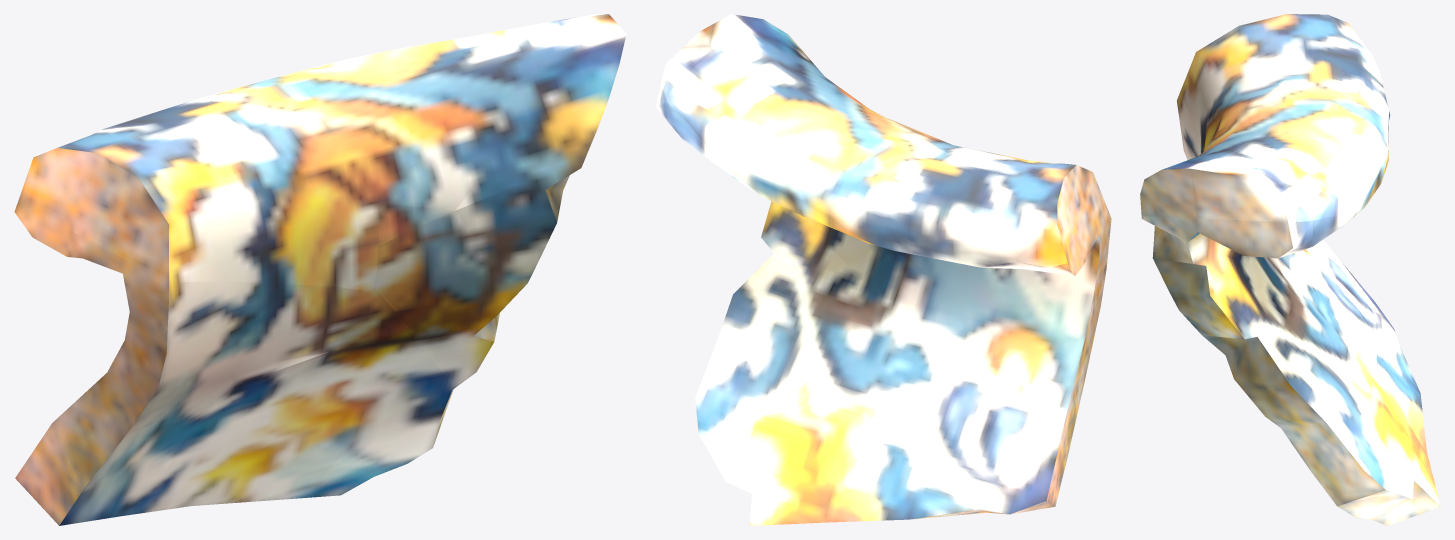
Rendered from Ceramic019.gltf.
3 renders of one model, left to right at view 1: azimuth 30°, elevation 25°; view 2: azimuth 150°, elevation 25°; view 3: azimuth 270°, elevation 25°, orthographic. The views are drawn at different scales.
Parts seen in each view (by area): view 1: Ceramic019_001, Ceramic019_006, Ceramic019, Ceramic019_003, Ceramic019_002, Ceramic019_004, Ceramic019_005; view 2: Ceramic019_003, Ceramic019_001, Ceramic019_006, Ceramic019, Ceramic019_002, Ceramic019_004, Ceramic019_005; view 3: Ceramic019_002, Ceramic019_006, Ceramic019_001, Ceramic019_003, Ceramic019_005, Ceramic019_004, Ceramic019.
Boxes of the visible parts, <box> form: Ceramic019_001: <box>17,76,378,291</box>; Ceramic019_006: <box>279,14,626,245</box>; Ceramic019: <box>14,204,408,437</box>; Ceramic019_003: <box>137,327,421,513</box>; Ceramic019_002: <box>374,162,583,397</box>; Ceramic019_004: <box>15,392,219,525</box>; Ceramic019_005: <box>309,345,454,497</box>; Ceramic019_003: <box>775,293,974,524</box>; Ceramic019_001: <box>831,124,1106,268</box>; Ceramic019_006: <box>661,14,902,230</box>; Ceramic019: <box>847,208,1111,406</box>; Ceramic019_002: <box>655,84,891,434</box>; Ceramic019_004: <box>939,363,1085,515</box>; Ceramic019_005: <box>699,321,817,525</box>; Ceramic019_002: <box>1141,210,1386,490</box>; Ceramic019_006: <box>1140,108,1387,222</box>; Ceramic019_001: <box>1181,14,1390,170</box>; Ceramic019_003: <box>1283,261,1436,488</box>; Ceramic019_005: <box>1280,339,1440,525</box>; Ceramic019_004: <box>1309,240,1410,370</box>; Ceramic019: <box>1177,90,1311,303</box>.
Bounding box in the file's own units: 0.1127 × 0.0992 × 0.0634.
1 material, 1 textured.
